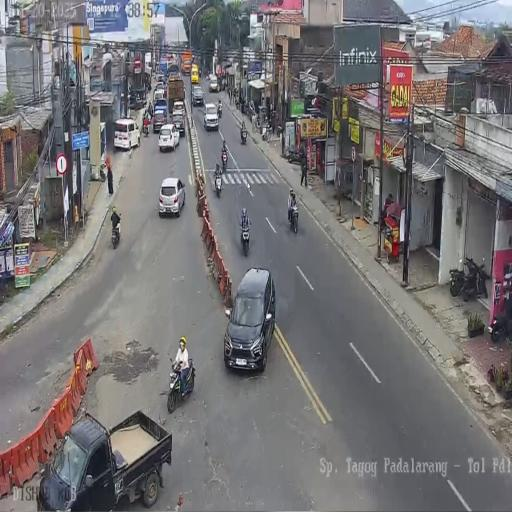car: (224, 266, 276, 368), (158, 176, 186, 218), (113, 117, 141, 151), (158, 123, 180, 152), (204, 103, 219, 131), (128, 88, 146, 110), (153, 108, 166, 133), (191, 86, 204, 106), (172, 100, 185, 118), (153, 88, 166, 105), (191, 64, 199, 84), (208, 76, 218, 92), (156, 76, 166, 91)
motorcycle: (166, 355, 194, 414), (490, 268, 512, 339), (460, 256, 489, 301), (240, 220, 251, 256), (288, 199, 299, 235), (286, 146, 304, 165), (214, 166, 224, 198), (111, 217, 121, 249), (262, 122, 272, 142), (221, 146, 228, 170), (240, 124, 248, 144), (142, 118, 150, 137), (240, 98, 246, 116), (147, 99, 152, 118), (277, 124, 282, 140), (217, 103, 222, 119)
truck: (36, 409, 171, 512), (181, 50, 192, 76), (167, 64, 180, 80), (158, 58, 168, 78), (144, 52, 152, 75)
